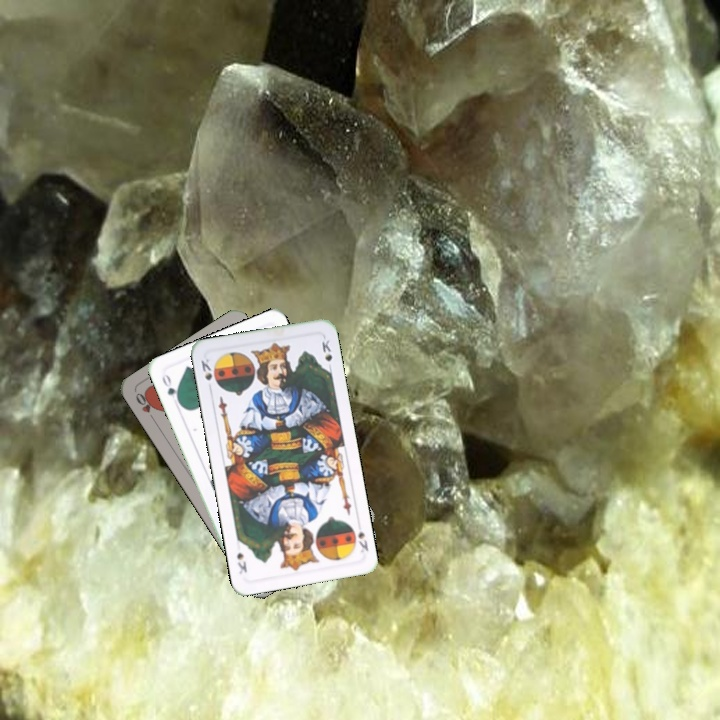GO: (158, 369, 183, 407)
HO: (131, 388, 158, 425)
SK: (197, 355, 215, 394), (354, 527, 371, 555)
